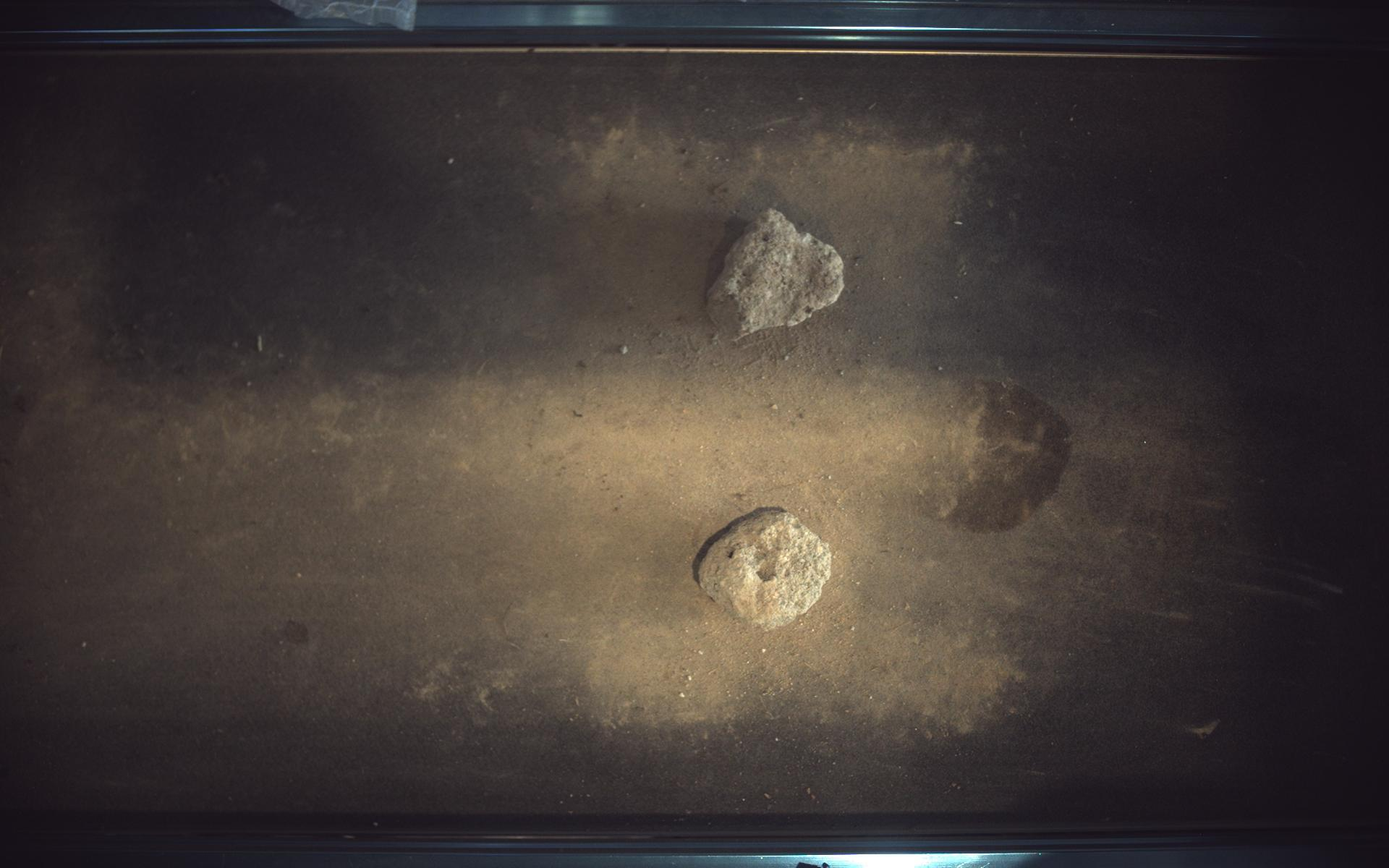stone: (708, 208, 845, 339), (700, 509, 833, 631)
